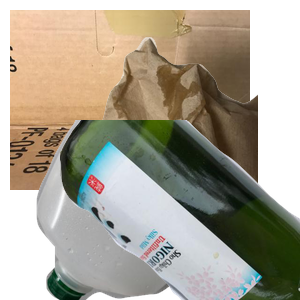cardboard: (10, 10, 250, 190)
glass: (60, 120, 300, 300)
plastic: (34, 120, 274, 300)
trash: (60, 35, 300, 215)
